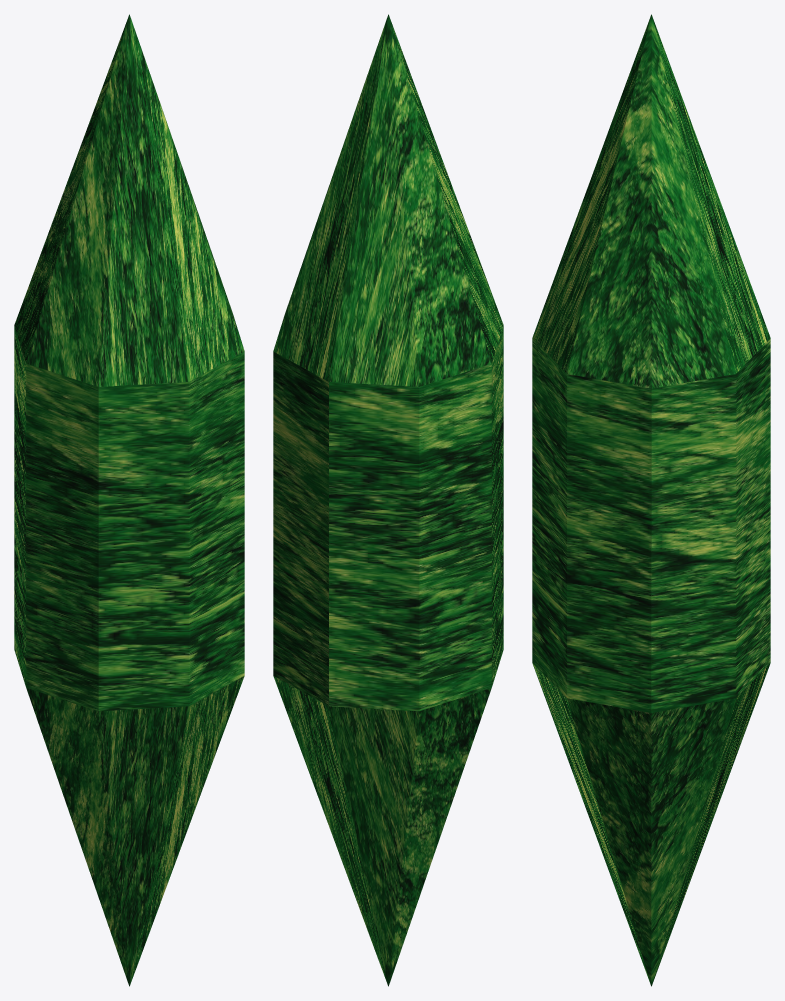
The model's file is CrystalGrapple.fbx.
3 renders of one model, left to right at view 1: azimuth 30°, elevation 25°; view 2: azimuth 150°, elevation 25°; view 3: azimuth 270°, elevation 25°, orthographic.
Parts seen in each view (by area): view 1: Cylinder; view 2: Cylinder; view 3: Cylinder.
Part boxes in pixels (x1,y1,x2,y2): Cylinder: [14, 14, 244, 986]; Cylinder: [273, 14, 503, 986]; Cylinder: [532, 14, 770, 986].
Bounding box in the file's own units: 200 × 900 × 200.
